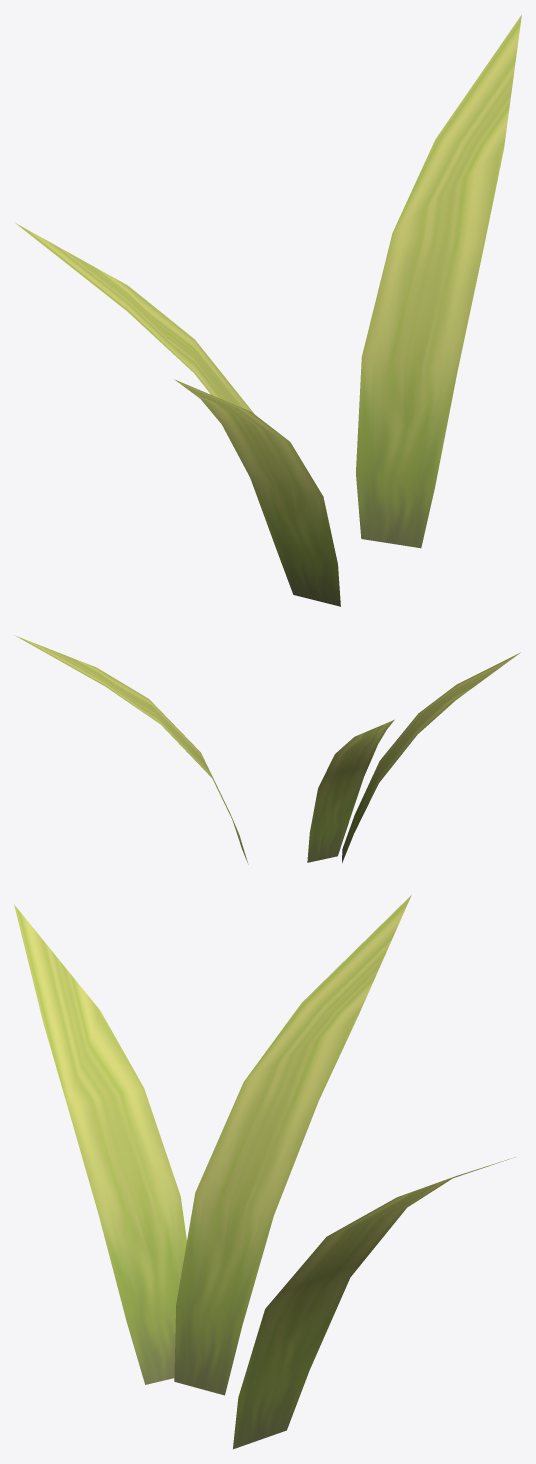
File: grass3.fbx
The picture shows the model from 3 angles, top to bottom: view 1: azimuth 30°, elevation 25°; view 2: azimuth 150°, elevation 25°; view 3: azimuth 270°, elevation 25°; orthographic projection. The views are drawn at different scales.
Parts seen in each view (by area): view 1: Plane.005; view 2: Plane.005; view 3: Plane.005.
Part boxes in pixels (x1,y1,x2,y2): Plane.005: (15,14,521,606); Plane.005: (14,635,520,864); Plane.005: (14,895,515,1449).
Bounding box in the file's own units: 45.32 × 28.49 × 31.31.
